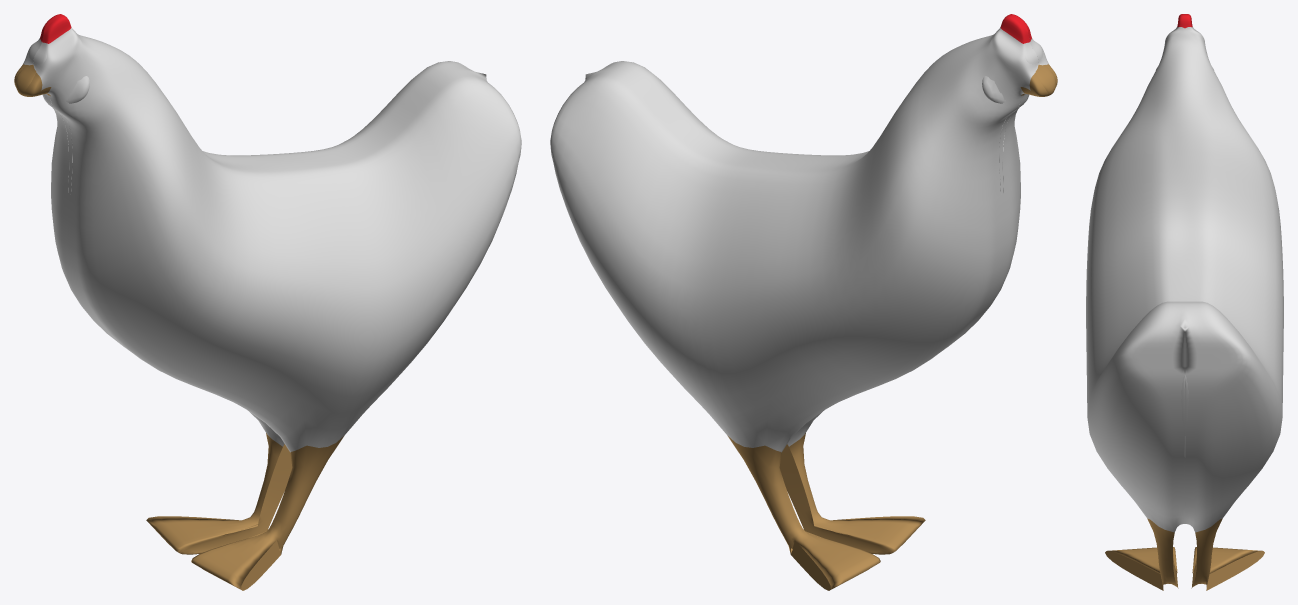
File: Chicken.fbx
3 views of the same model, side by side, from view 1: azimuth 30°, elevation 25°; view 2: azimuth 150°, elevation 25°; view 3: azimuth 270°, elevation 25° (orthographic). The views are drawn at different scales.
Parts seen in each view (by area): view 1: Chicken; view 2: Chicken; view 3: Chicken.
Boxes of the visible parts, <box> form: Chicken: <box>14,14,521,590</box>; Chicken: <box>550,14,1057,590</box>; Chicken: <box>1086,14,1283,590</box>.
Bounding box in the file's own units: 259 × 306 × 112.
